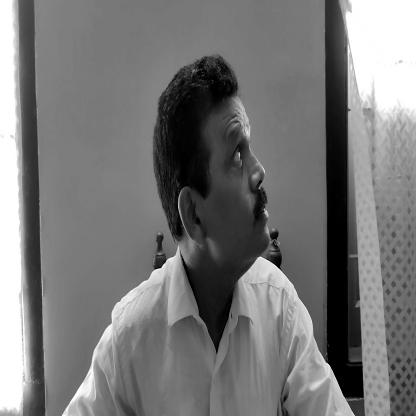Distracted: (151, 44, 273, 270)
